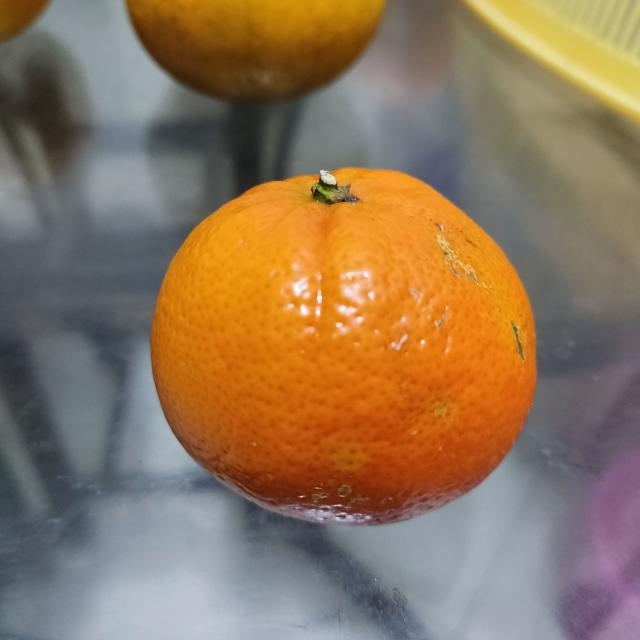agrume: (148, 164, 536, 521)
